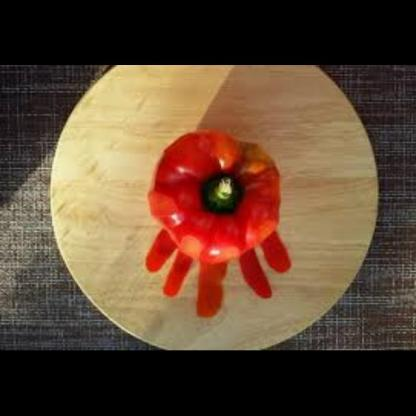bell pepper: (141, 125, 291, 272)
